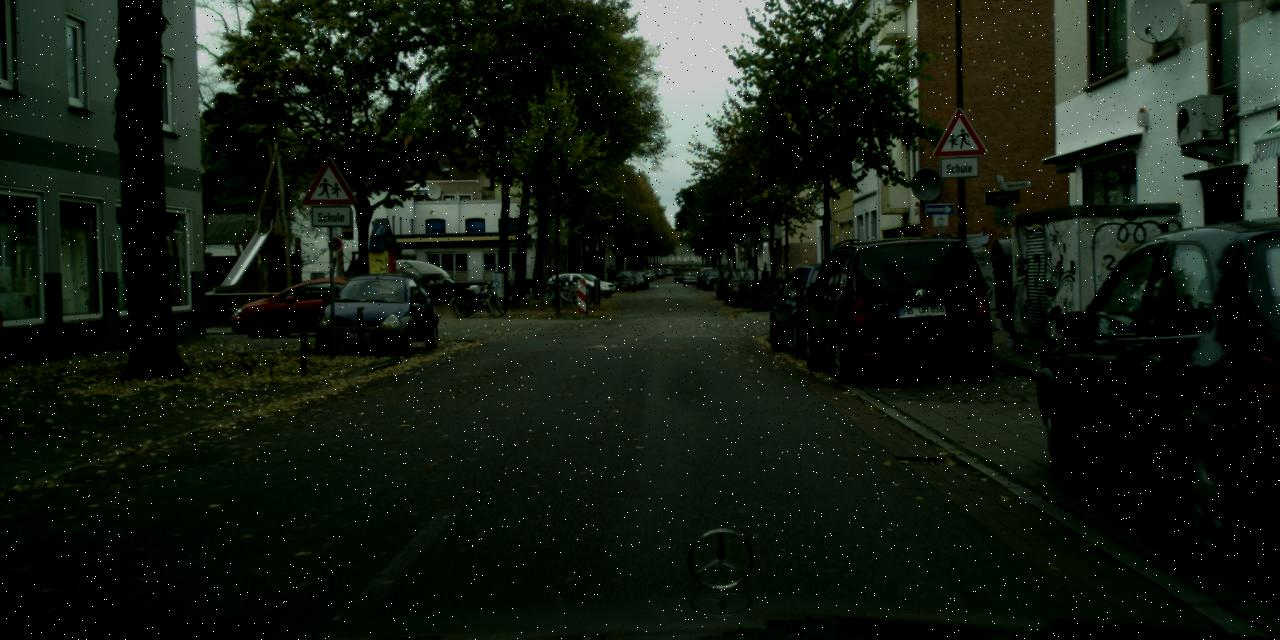ped: (607, 264, 615, 282), (605, 264, 613, 282)
